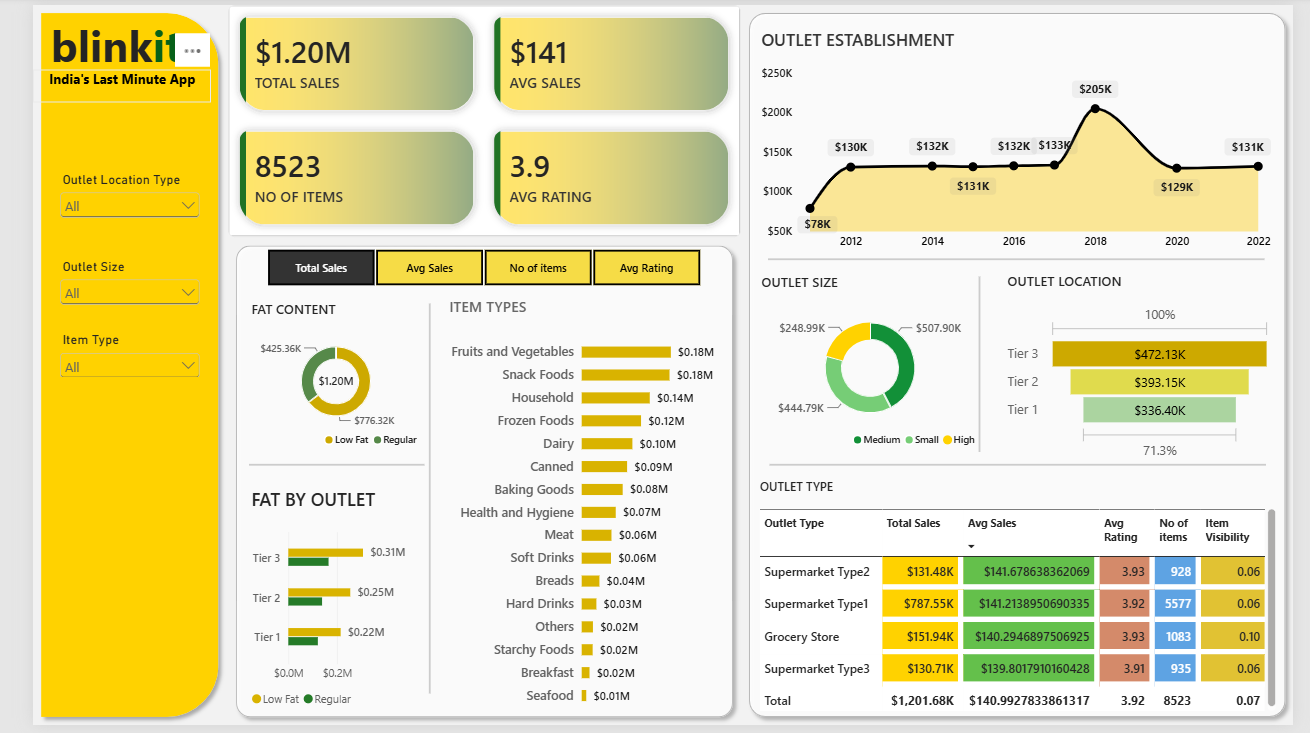

The dashboard page shown, as its layout file describes it:
{"tool":"powerbi","page":{"name":"Page 1","canvas":[1400,800],"ordinal":0},"visuals":[{"type":"shape","box":[0,0,215,800],"z":0},{"type":"textbox","box":[20,11.7,178.3,76.7],"z":1000},{"type":"textbox","box":[0,71.7,198.3,36.7],"z":2000},{"type":"cardVisual","fields":{"Data":["BlinkIT Grocery Data.Total Sales","BlinkIT Grocery Data.Avg Sales","BlinkIT Grocery Data.No of items","BlinkIT Grocery Data.Avg Rating"]},"box":[216,0,570,258],"z":3000},{"type":"shape","box":[216,258,570,542],"z":4000},{"type":"donutChart","title":"FAT CONTENT","fields":{"Category":["BlinkIT Grocery Data.Item Fat Content"],"Y":["BlinkIT Grocery Data.Total Sales"]},"box":[226.7,313.3,220,198.3],"z":5000},{"type":"slicer","fields":{"Values":["metrics.metrics"]},"box":[240,270,520,43.3],"z":6000},{"type":"clusteredBarChart","title":"FAT BY OUTLET","fields":{"Category":["BlinkIT Grocery Data.Outlet Location Type"],"Series":["BlinkIT Grocery Data.Item Fat Content"],"Y":["BlinkIT Grocery Data.Total Sales"]},"box":[226.7,521.7,220,278.3],"z":7000},{"type":"shape","box":[240,491.7,195,38.3],"z":8000},{"type":"shape","box":[435,331.7,11.7,433.3],"z":9000},{"type":"barChart","title":"ITEM TYPES","fields":{"Category":["BlinkIT Grocery Data.Item Type"],"Y":["BlinkIT Grocery Data.Total Sales"]},"box":[446.7,310,326.7,490],"z":10000},{"type":"shape","box":[786,0,614,800],"z":11000},{"type":"lineChart","title":"OUTLET ESTABLISHMENT","fields":{"Category":["BlinkIT Grocery Data.Outlet Establishment Year"],"Y":["BlinkIT Grocery Data.Total Sales"]},"box":[794,12,598,280],"z":12000},{"type":"shape","box":[816.7,263.3,551.7,38.3],"z":13000},{"type":"donutChart","title":"OUTLET SIZE","fields":{"Category":["BlinkIT Grocery Data.Outlet Size"],"Y":["BlinkIT Grocery Data.Total Sales"]},"box":[793.3,283.3,273.3,228.3],"z":14000},{"type":"funnel","title":"OUTLET LOCATION","fields":{"Category":["BlinkIT Grocery Data.Outlet Location Type"],"Y":["BlinkIT Grocery Data.Total Sales"]},"box":[1066.7,281.7,325,240],"z":15000},{"type":"shape","box":[1021.7,301.7,60,195],"z":16000},{"type":"shape","box":[818.3,471.7,551.7,78.3],"z":17000},{"type":"pivotTable","title":"OUTLET TYPE","fields":{"Rows":["BlinkIT Grocery Data.Outlet Type"],"Values":["BlinkIT Grocery Data.Total Sales","BlinkIT Grocery Data.Avg Sales","BlinkIT Grocery Data.Avg Rating","BlinkIT Grocery Data.No of items","Avg(BlinkIT Grocery Data.Item Visibility)"]},"box":[791.7,511.7,605,288.3],"z":18000},{"type":"slicer","fields":{"Values":["BlinkIT Grocery Data.Outlet Location Type"]},"box":[25,185,165,58.3],"z":19000},{"type":"slicer","fields":{"Values":["BlinkIT Grocery Data.Outlet Size"]},"box":[25,281.7,165,88.3],"z":20000},{"type":"slicer","fields":{"Values":["BlinkIT Grocery Data.Item Type"]},"box":[25,363.3,165,50],"z":21000}]}

Visuals, with their boxes in screenshot pixels (x1, y1, x2, y2), scaled from the page's 1400x800 canvas onto the 1310x733 screenshot:
shape: BBox(0, 0, 201, 732)
textbox: BBox(19, 11, 186, 81)
textbox: BBox(0, 66, 186, 99)
cardVisual - BlinkIT Grocery Data.Total Sales x BlinkIT Grocery Data.Avg Sales: BBox(202, 0, 735, 236)
shape: BBox(202, 236, 735, 732)
"FAT CONTENT" donutChart: BBox(212, 287, 418, 469)
slicer - metrics.metrics: BBox(225, 247, 711, 287)
"FAT BY OUTLET" clusteredBarChart: BBox(212, 478, 418, 732)
shape: BBox(225, 451, 407, 486)
shape: BBox(407, 304, 418, 701)
"ITEM TYPES" barChart: BBox(418, 284, 724, 732)
shape: BBox(735, 0, 1309, 732)
"OUTLET ESTABLISHMENT" lineChart: BBox(743, 11, 1303, 268)
shape: BBox(764, 241, 1280, 276)
"OUTLET SIZE" donutChart: BBox(742, 260, 998, 469)
"OUTLET LOCATION" funnel: BBox(998, 258, 1302, 478)
shape: BBox(956, 276, 1012, 455)
shape: BBox(766, 432, 1282, 504)
"OUTLET TYPE" pivotTable: BBox(741, 469, 1307, 732)
slicer - BlinkIT Grocery Data.Outlet Location Type: BBox(23, 170, 178, 223)
slicer - BlinkIT Grocery Data.Outlet Size: BBox(23, 258, 178, 339)
slicer - BlinkIT Grocery Data.Item Type: BBox(23, 333, 178, 379)
